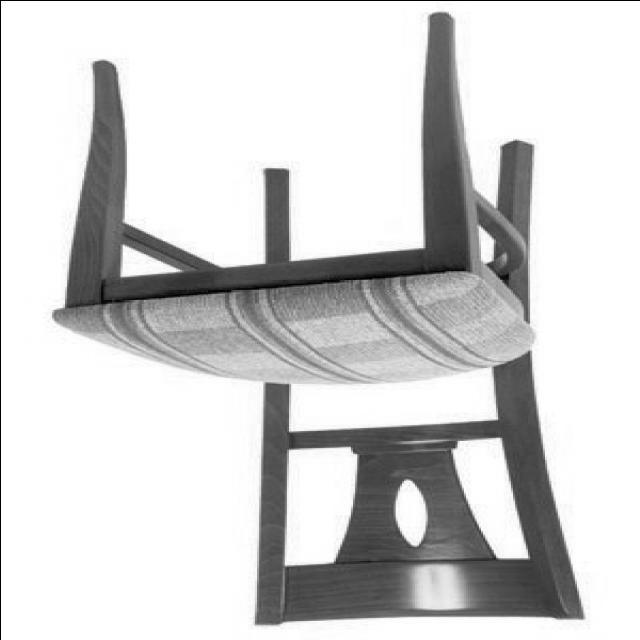chair: (45, 13, 582, 628)
